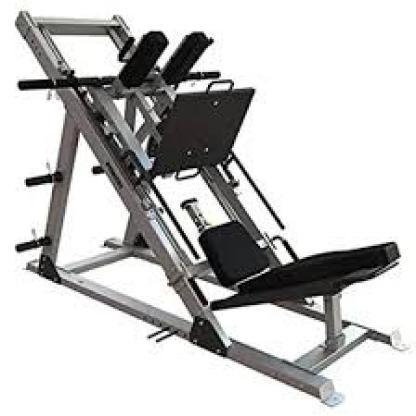leg press: (6, 5, 413, 416)
